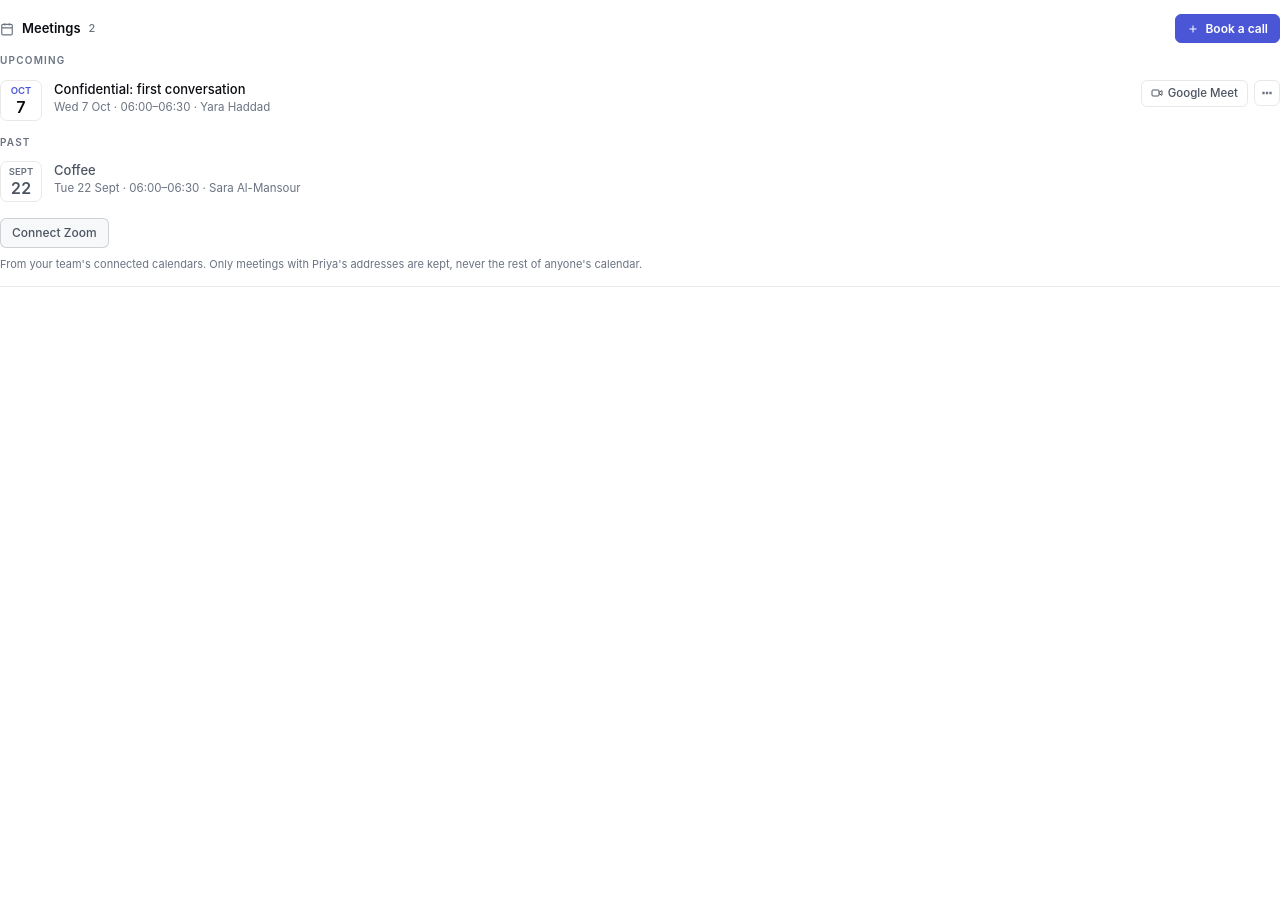
MeetingsSection › refuses a time the calendar holds before anything is sent
Click the button "Book a call" at (1228, 29), box [1175,14,1279,43]
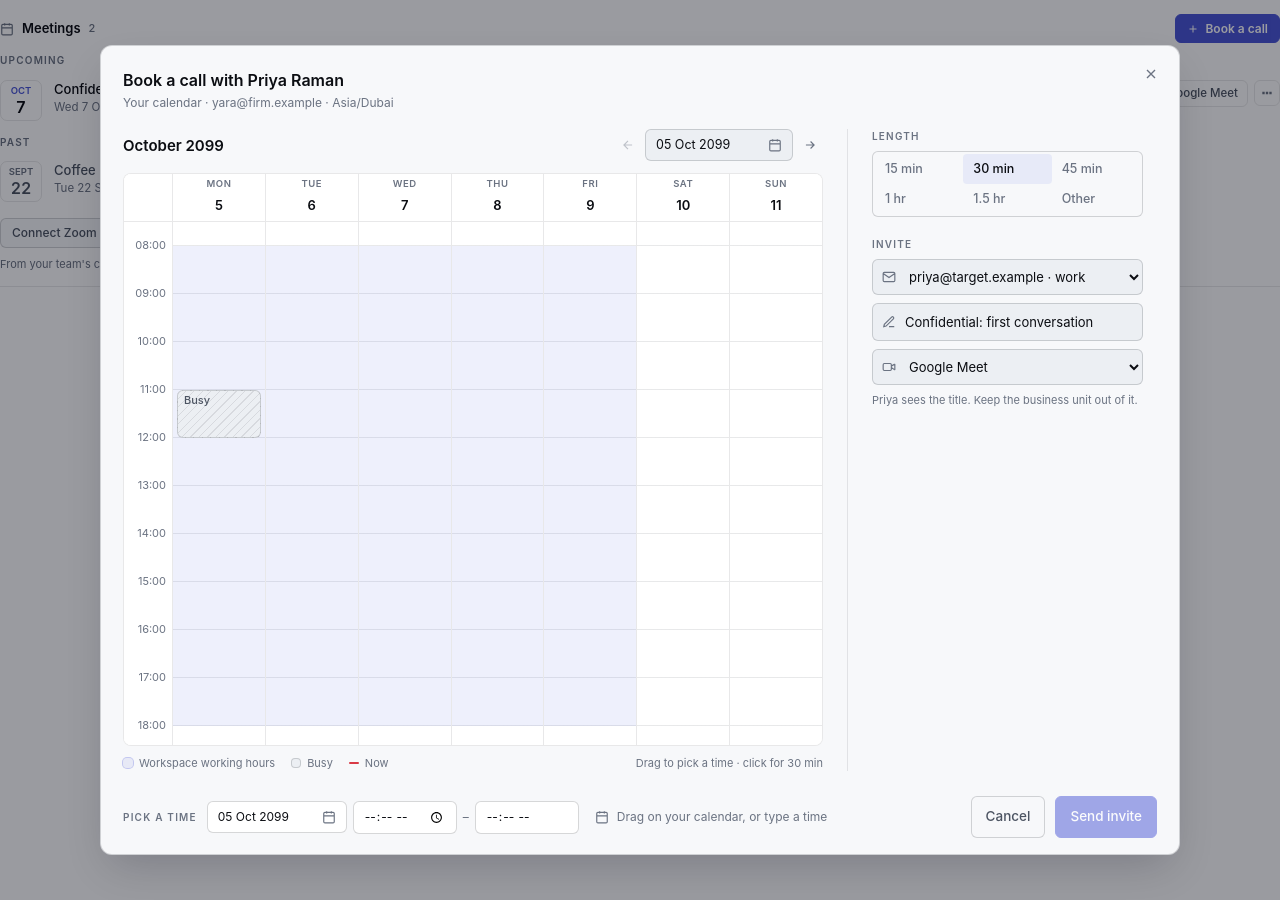
Check: the element named "Your week" is shown, box [123,173,823,746]
Type "10:45" into the time field named "Call starts" at (405, 817), box [353,801,457,834]
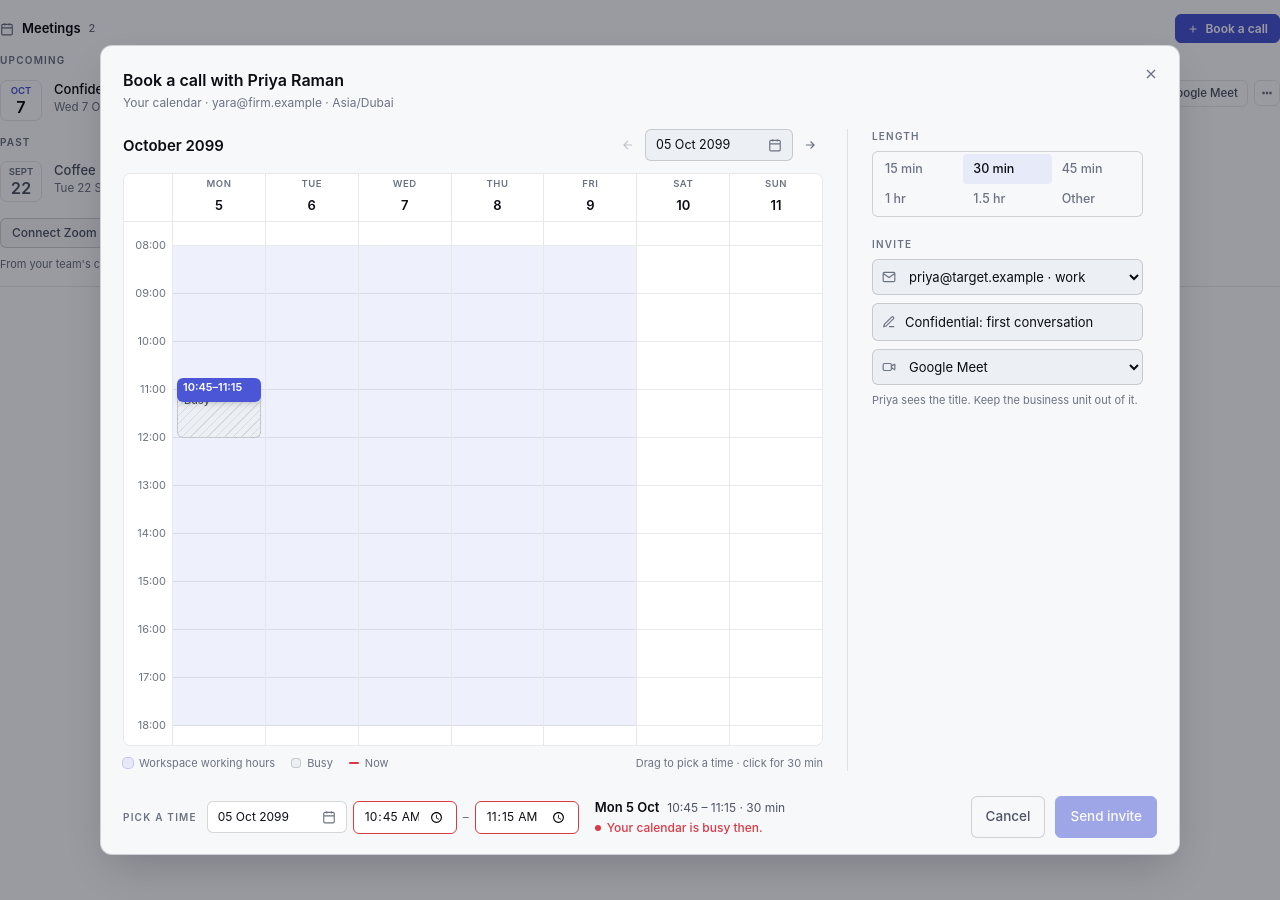
Check: the button "Send invite" is disabled, box [1055,796,1157,838]
Check: the message reads "Your calendar is busy then.", box [607,820,763,835]
